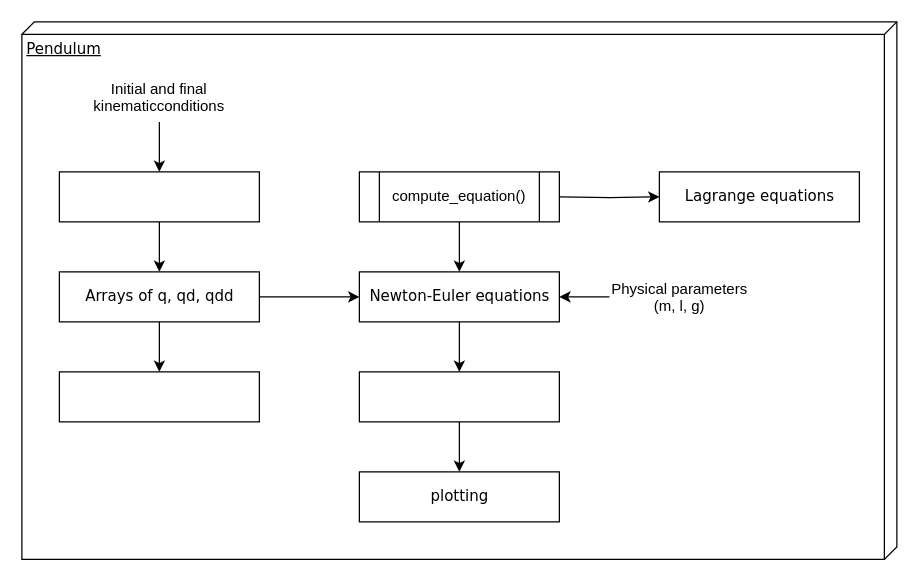
The diagram is 919 pixels wide and 581 high, and some of its shapes have lost their labels. The centre of each missing label's shape, as x and y in pixels:
"Animation" belongs at (x=158, y=396).
"Arrays of Forces and Torques" belongs at (x=458, y=396).
"Compute polynomial equations" belongs at (x=158, y=196).
